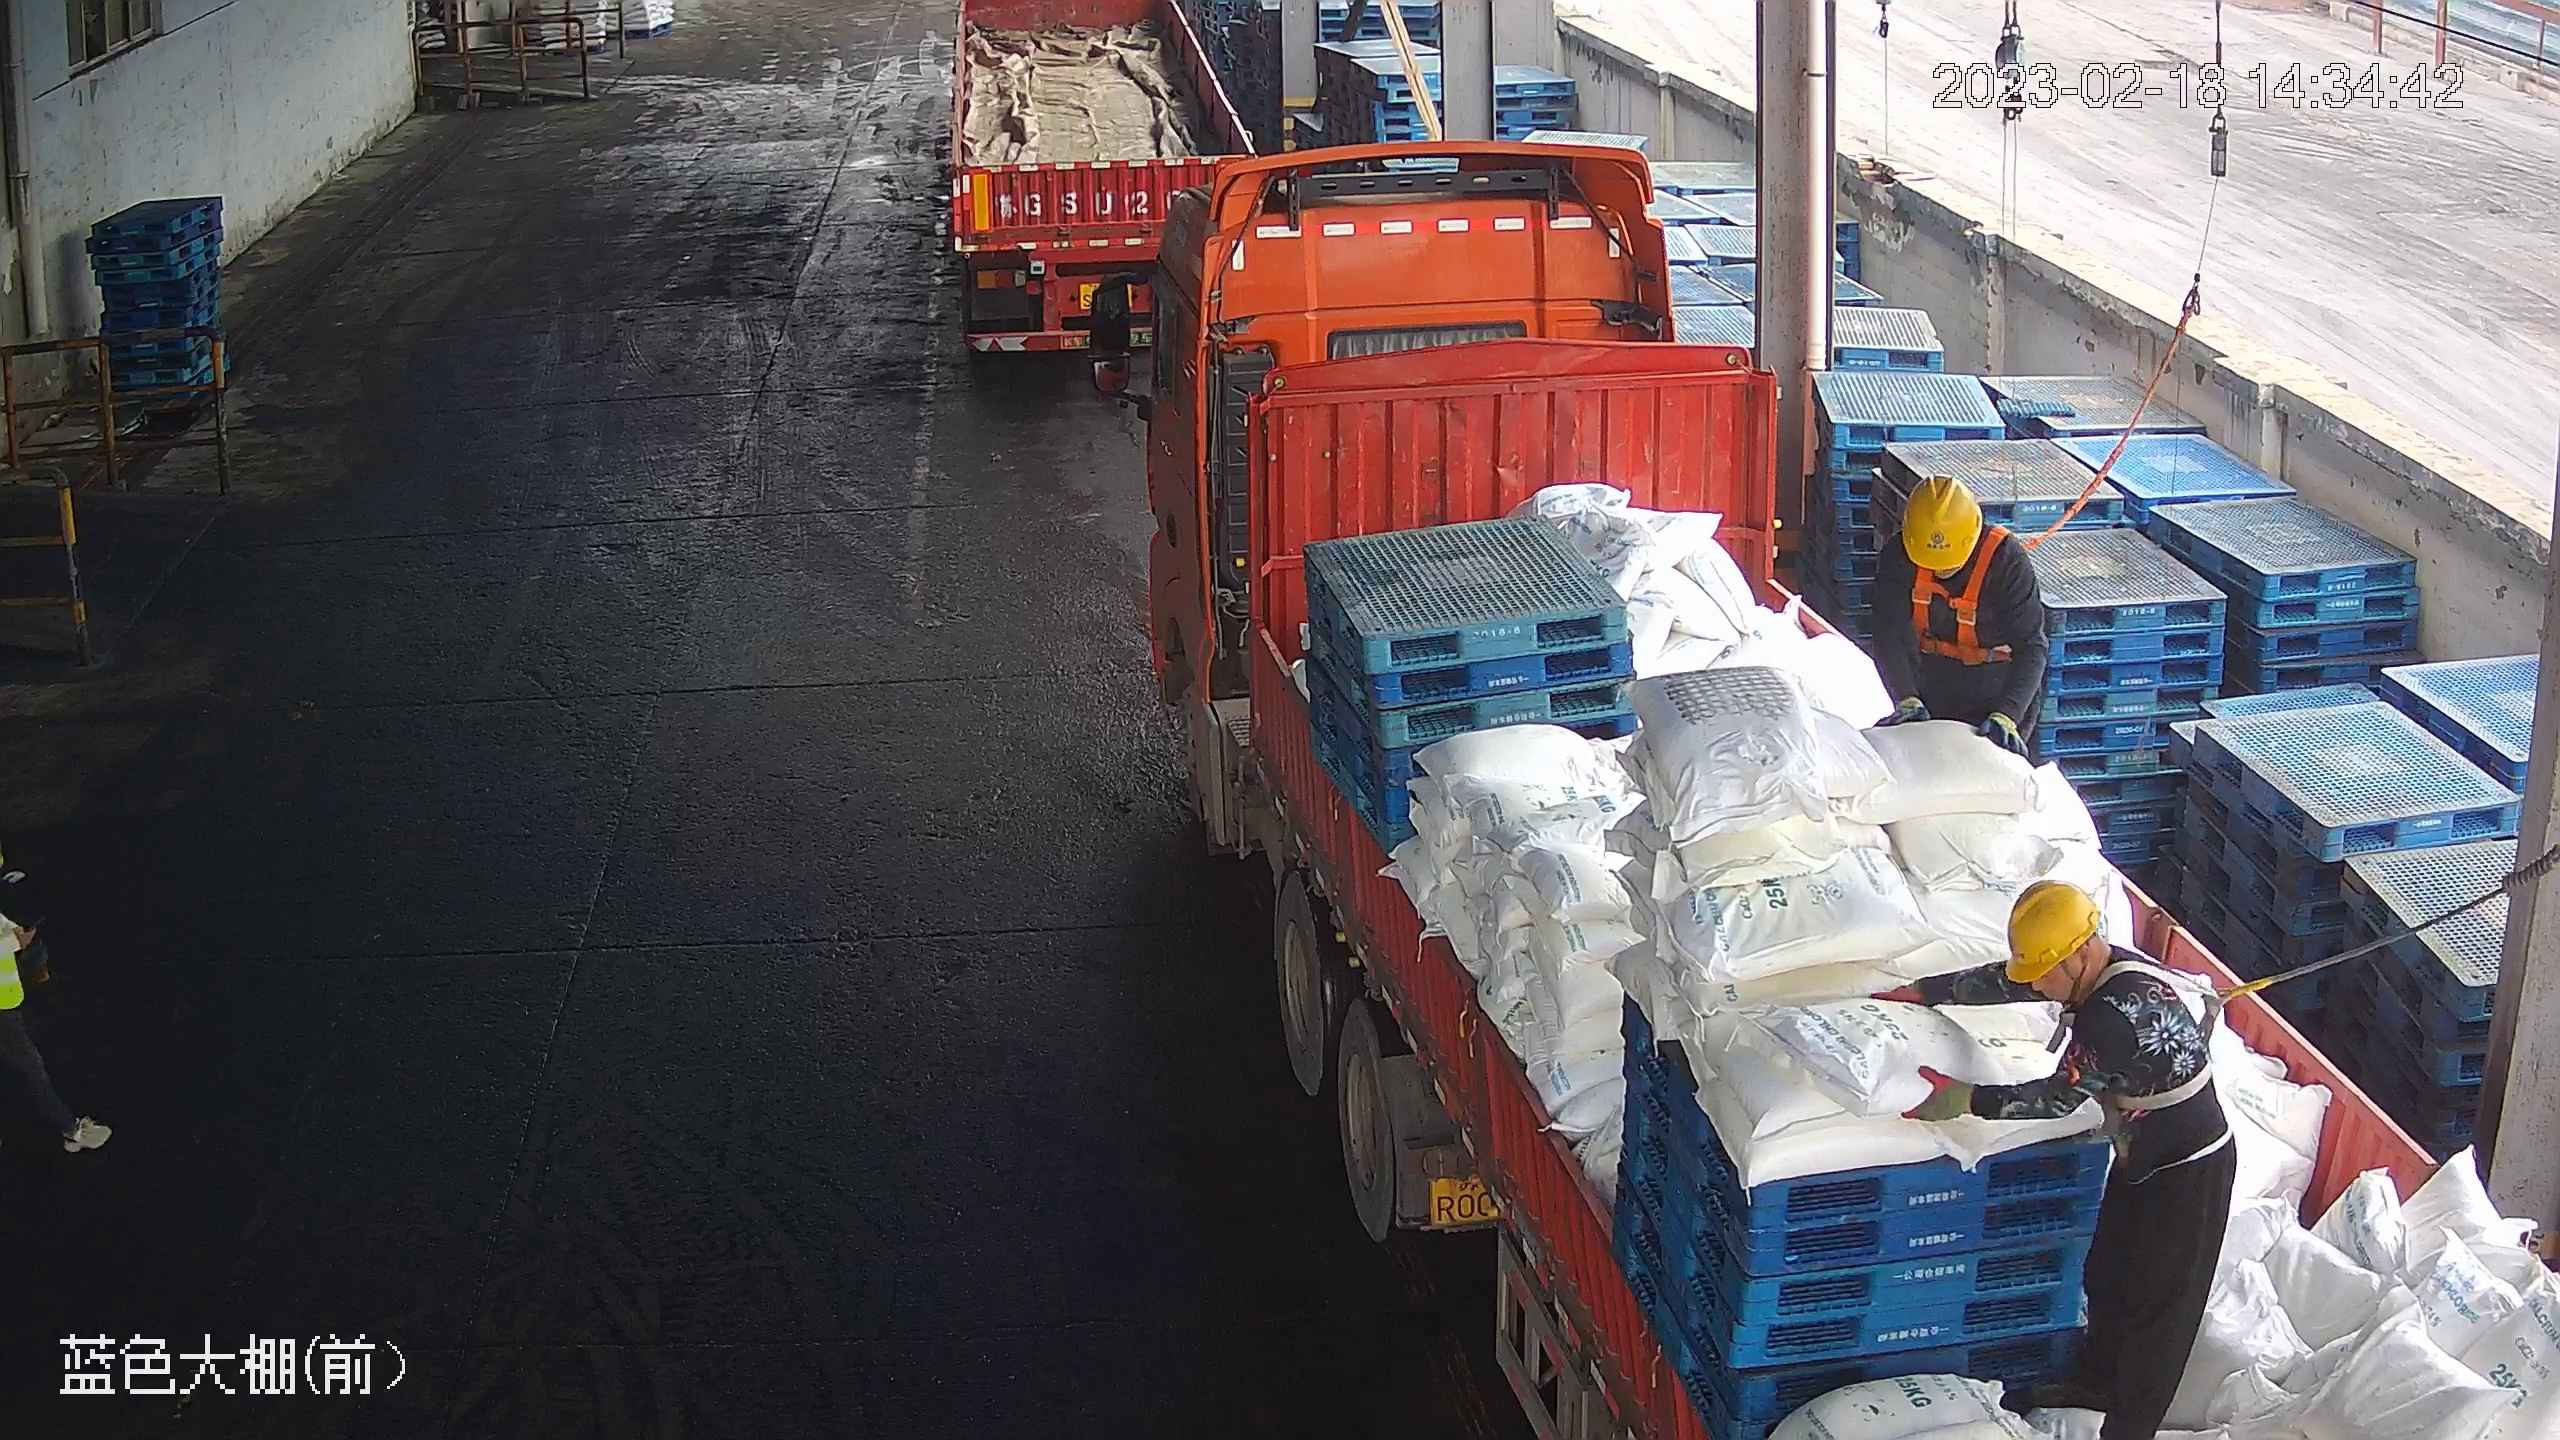belt: (2048, 956, 2266, 1117), (1889, 529, 2035, 677)
head: (1959, 881, 2210, 1094), (1884, 471, 2032, 605)
helmet: (2004, 881, 2103, 985), (1897, 474, 1987, 567)
people: (1870, 879, 2238, 1440), (1868, 474, 2048, 761)
truck: (1091, 125, 2560, 1440), (935, 1, 1264, 376)
